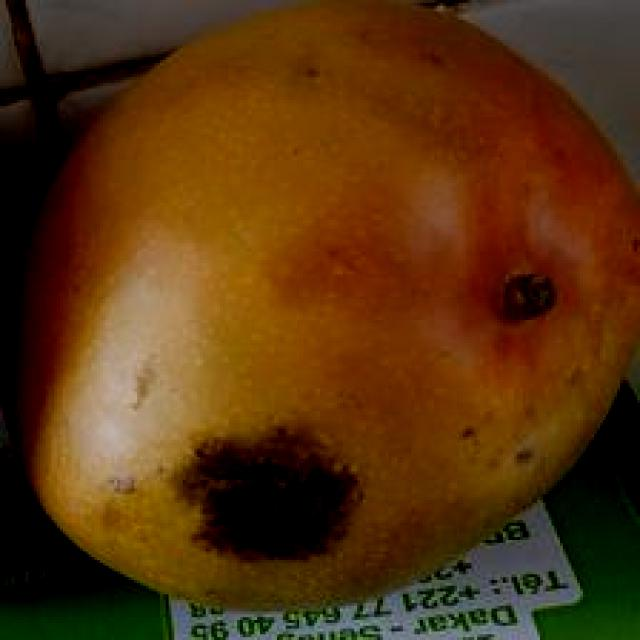Mango: (8, 0, 640, 617)
